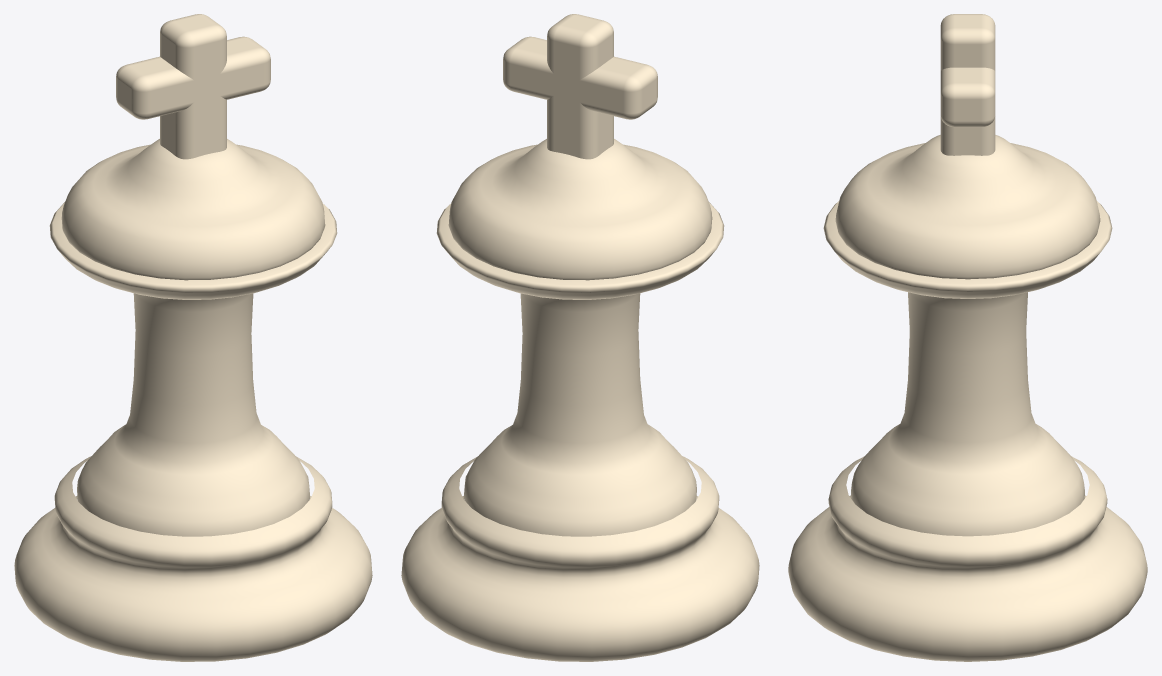
The model's file is king.glb.
The picture shows the model from 3 angles, left to right: view 1: azimuth 30°, elevation 25°; view 2: azimuth 150°, elevation 25°; view 3: azimuth 270°, elevation 25°; orthographic projection.
Visible parts, largest first — view 1: king-ivory-porcelain; view 2: king-ivory-porcelain; view 3: king-ivory-porcelain.
Boxes of the visible parts, box(x1,y1,x2,y2) form: king-ivory-porcelain: box(14, 14, 372, 661); king-ivory-porcelain: box(401, 14, 759, 661); king-ivory-porcelain: box(788, 14, 1147, 661).
Bounding box in the file's own units: 0.6542 × 1.16 × 0.6542.
